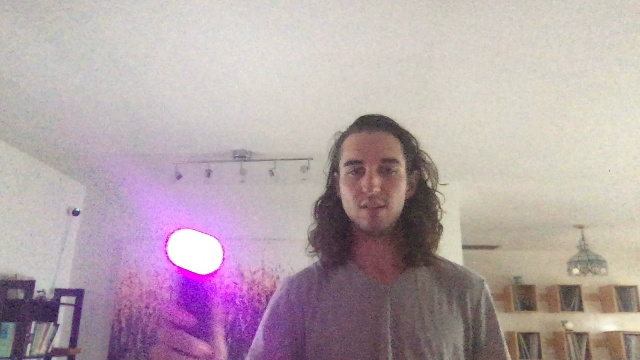wand: (168, 227, 223, 274)
